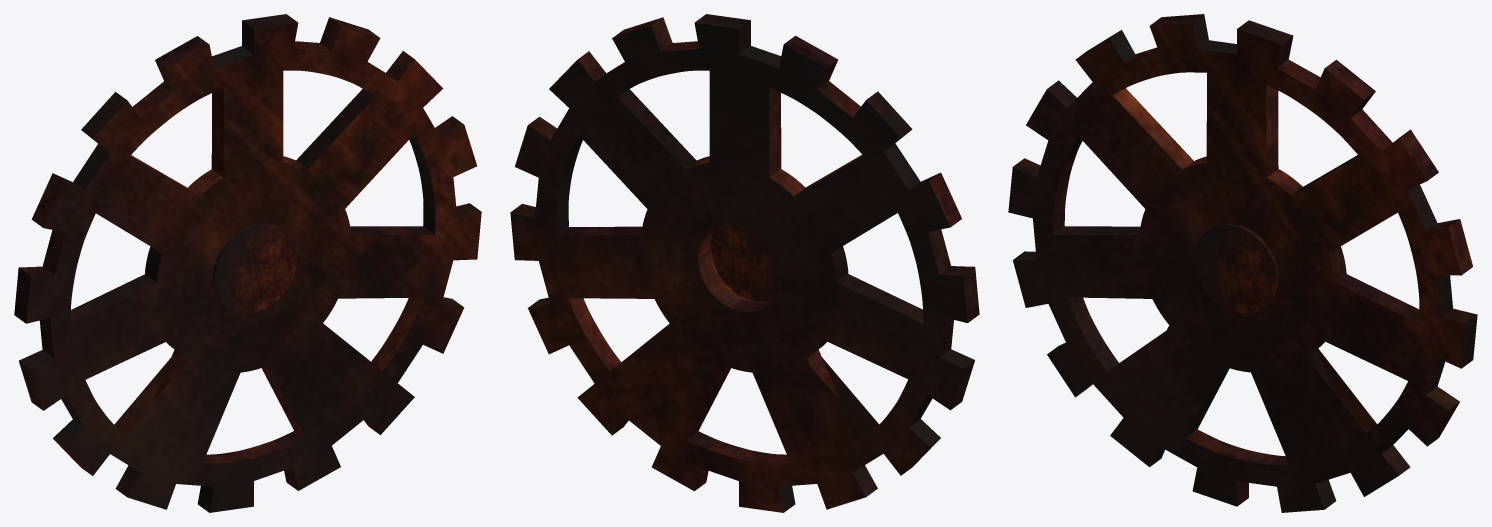
Rendered from Gear2.obj.
3 views of the same model, side by side, from view 1: azimuth 30°, elevation 25°; view 2: azimuth 150°, elevation 25°; view 3: azimuth 330°, elevation 25° (orthographic).
Parts seen in each view (by area): view 1: gear2.1_RustOscuro; view 2: gear2.1_RustOscuro; view 3: gear2.1_RustOscuro.
Part boxes in pixels (left/top/right/bottom): gear2.1_RustOscuro: left=14, top=14, right=481, bottom=512; gear2.1_RustOscuro: left=510, top=14, right=979, bottom=512; gear2.1_RustOscuro: left=1008, top=14, right=1477, bottom=512.
Size of the model in its own units: 2.47 by 2.47 by 0.1329.
